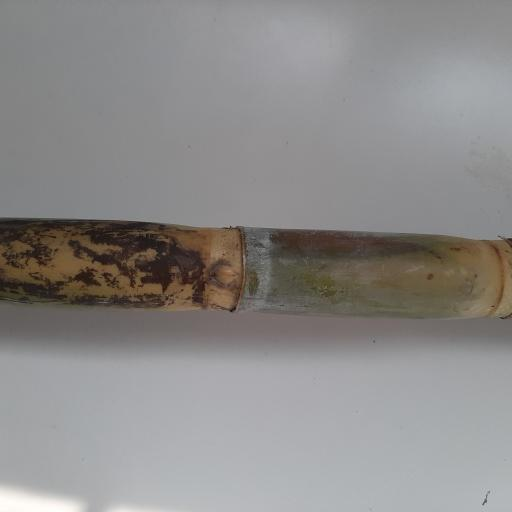Bud: (209, 262, 239, 287)
